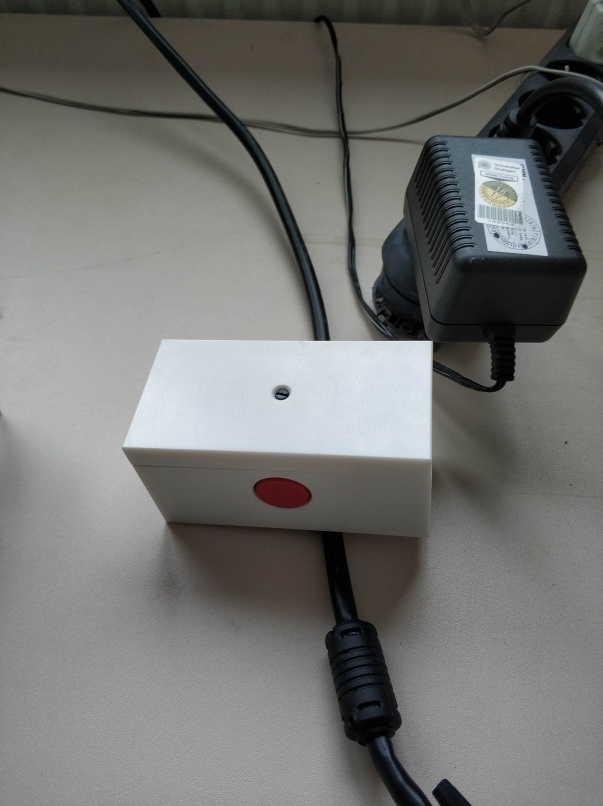white+white+red: (118, 333, 437, 546)
